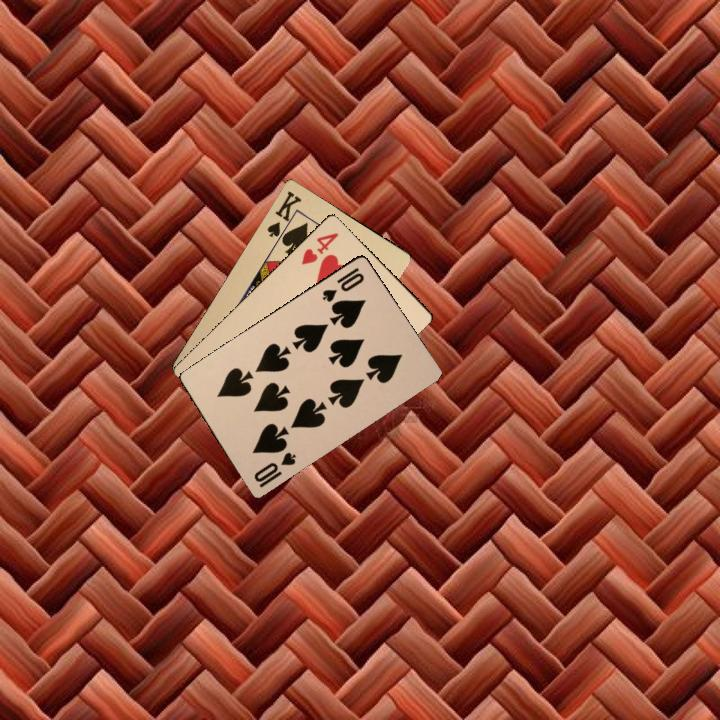10s: (318, 263, 367, 305), (250, 448, 299, 490)
4h: (297, 228, 341, 267)
Ks: (263, 187, 304, 243)
